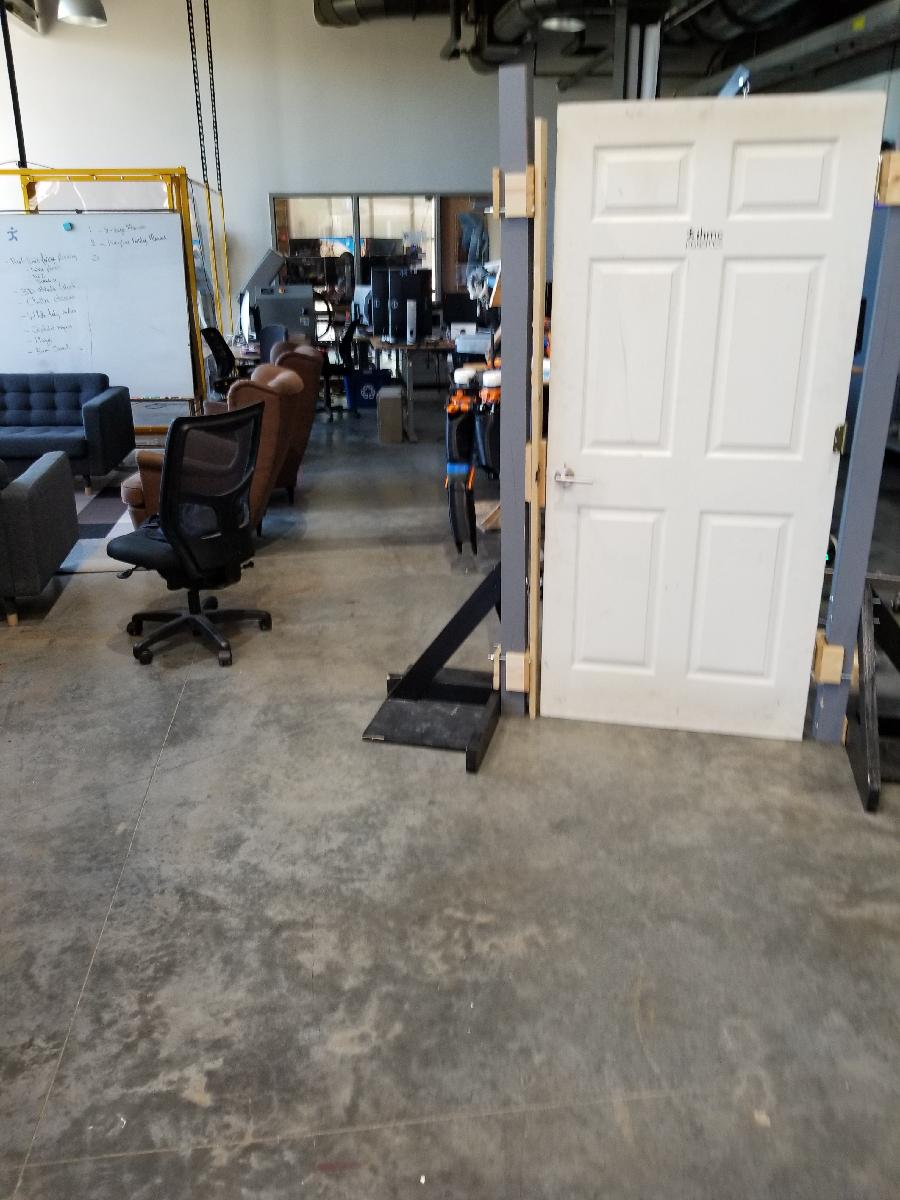door: (535, 89, 889, 754)
doorHandle: (549, 466, 603, 494)
